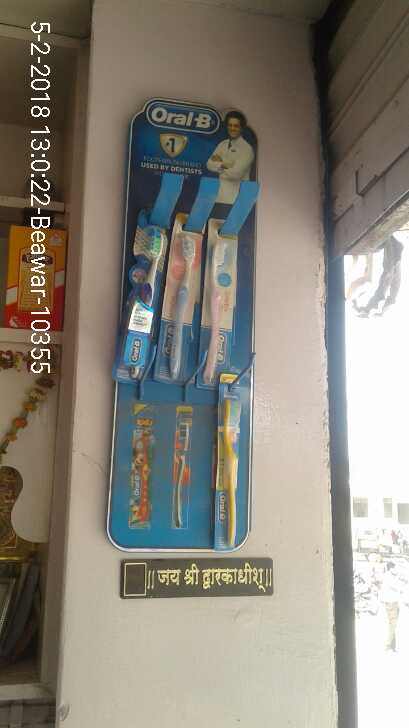oralb: (122, 211, 162, 397), (215, 378, 245, 551), (163, 223, 192, 390), (202, 212, 226, 388)
